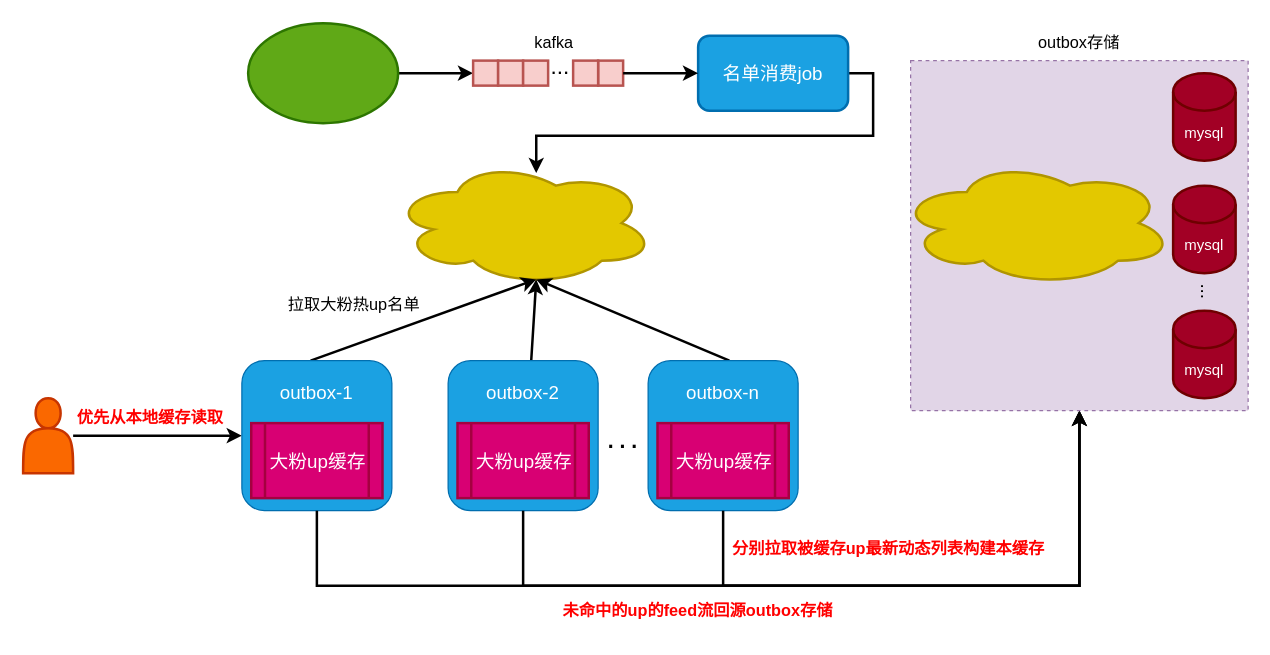
This 1270x655 diagram has some shape labels left out. Here are the shapes that lost their labels. From the top down, the centre of each, then its label:
At pixel 322 72: "大粉热up名单 数据平台(T+1)".
At pixel 522 222: "大粉热up redis集群".
At pixel 1035 222: "outbox-feed redis集群".
